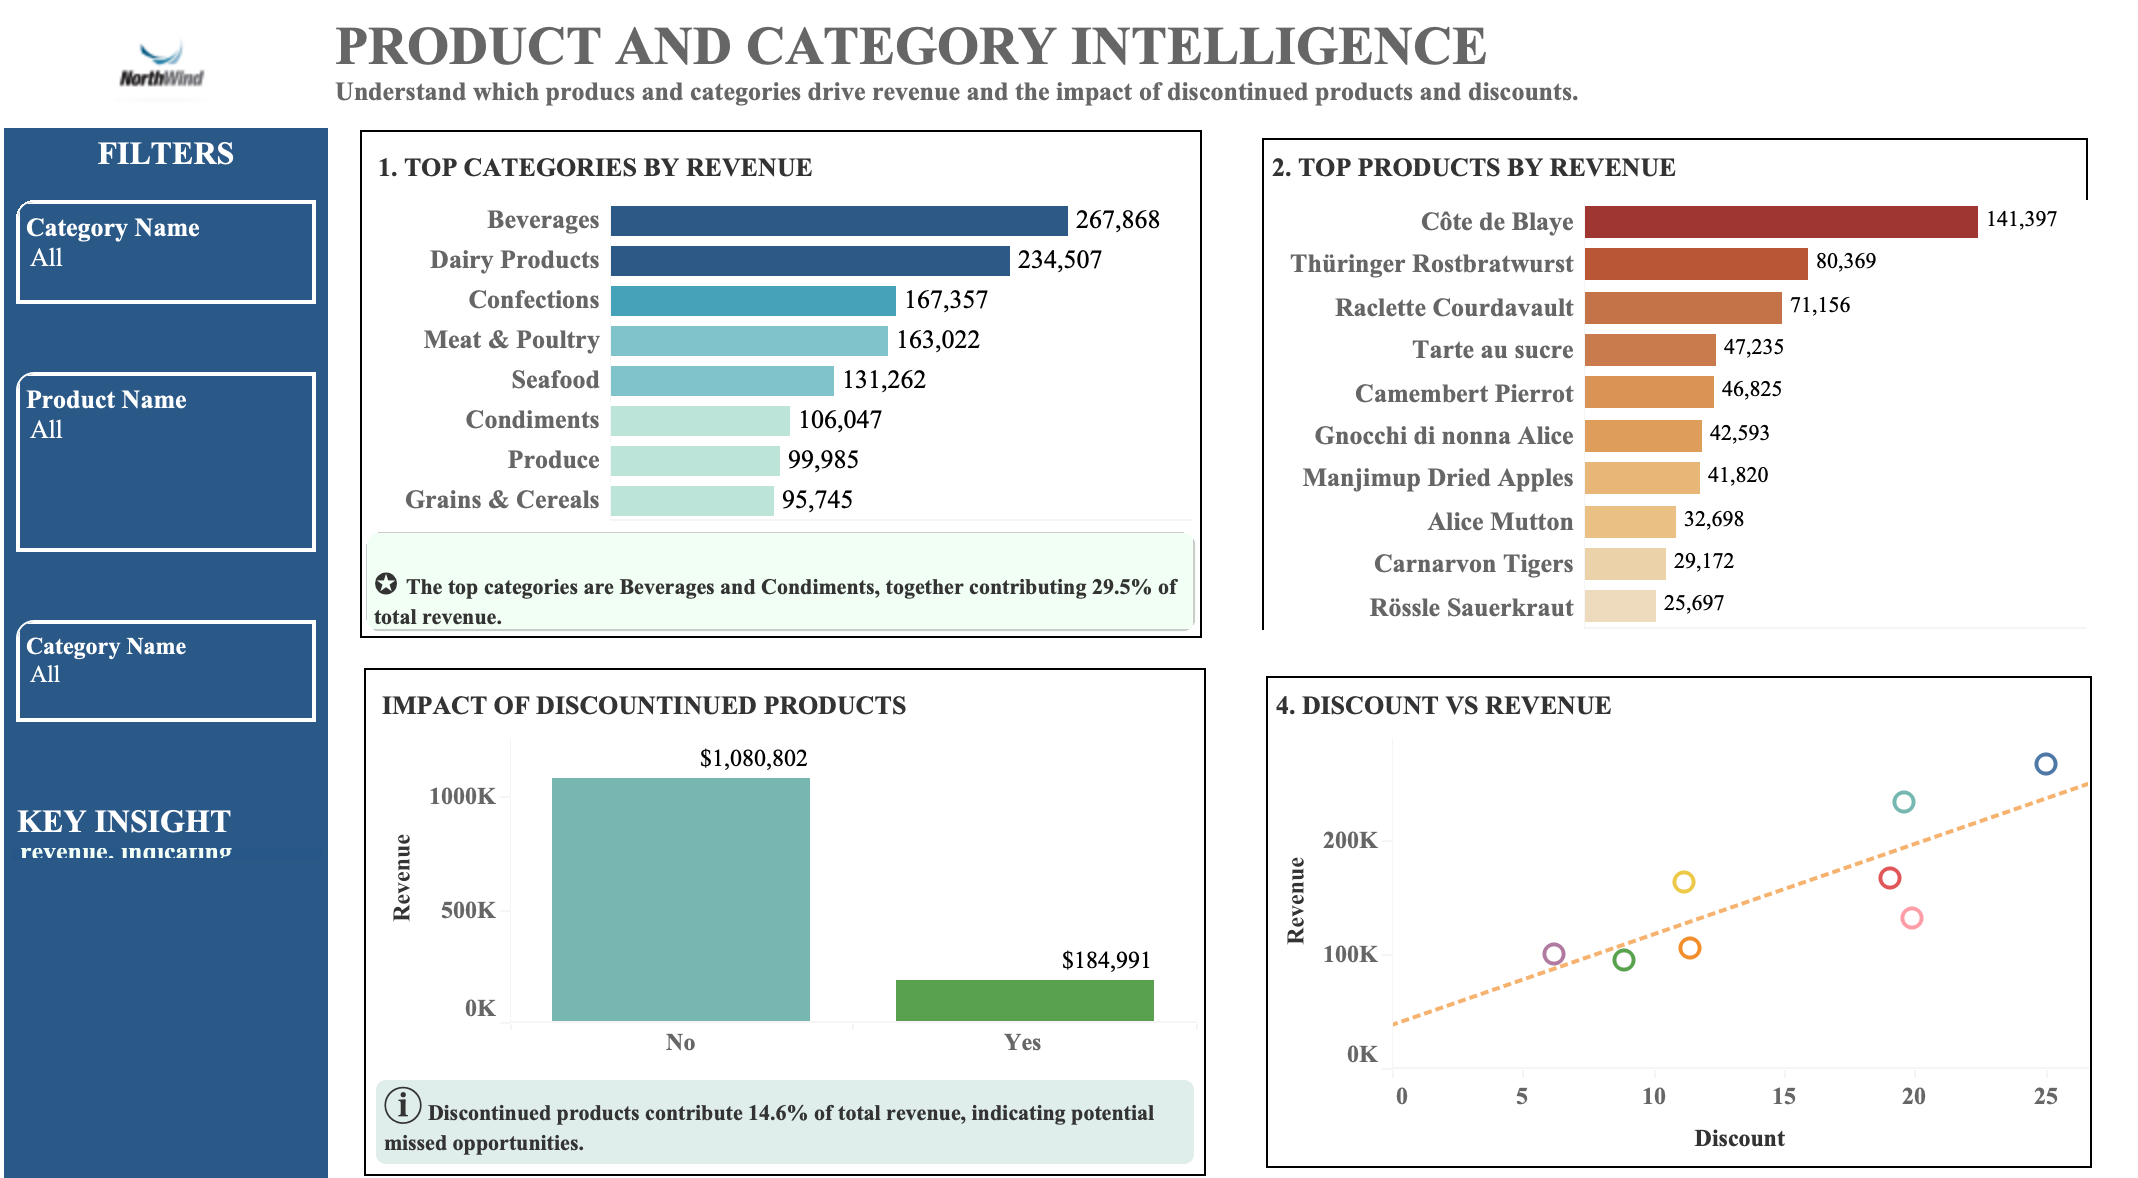

Layout of this report page (visuals, bound fields, positions):
{"tool":"tableau","page":{"name":"Product and Category","canvas":[1000,1000],"units":"permille","ordinal":1},"visuals":[{"type":"text","box":[154.3,12.7,784.2,80.5]},{"type":"image","param":"/Users/lanreajayi/Downloads/northwind.png","box":[9.2,18.4,134.1,80.5]},{"type":"text","box":[1.9,108.8,151.5,43.7]},{"type":"worksheet","title":"Top Products","mark":"Automatic","rows":["productName"],"cols":["Calculation_0364071424393216"],"box":[586.5,110.9,393.8,430.3]},{"type":"worksheet","title":"Top Categories","mark":"Automatic","rows":["categoryName"],"cols":["Calculation_0364071424393216"],"box":[169.3,111.9,391.9,332.8]},{"type":"filter","title":"Top Categories","param":"[federated.0mvdz6j06fmfxy10p40rm1pjm4gl].[none:categoryName:nk]","box":[1.9,152.5,151.5,137.8]},{"type":"filter","title":"Top Products","param":"[federated.0mvdz6j06fmfxy10p40rm1pjm4gl].[none:productName:nk]","box":[1.9,290.3,151.5,208.4]},{"type":"worksheet","title":"Insight 2","mark":"Text","rows":["categoryName"],"box":[169.3,444.6,391.9,94.7]},{"type":"filter","title":"Discount vs Revenue","param":"[federated.0mvdz6j06fmfxy10p40rm1pjm4gl].[none:categoryName:nk]","box":[1.9,498.7,151.5,142.8]},{"type":"worksheet","title":"Discount vs Revenue","mark":"Automatic","rows":["Calculation_0364071424393216"],"cols":["discount"],"box":[588.4,567.8,393.8,430.8]},{"type":"worksheet","title":"Discountinued Products","mark":"Bar","rows":["Calculation_0364071424393216"],"cols":["Calculation_0041846006296576"],"box":[171.2,569.5,391.9,340]},{"type":"text","box":[1.9,641.5,151.5,72.3]},{"type":"worksheet","title":"Insight 1 (2)","mark":"Text","box":[1.9,713.8,151.5,286.2]},{"type":"worksheet","title":"Insight 1","mark":"Text","box":[171.2,909.5,391.9,87.4]}]}

Visuals, with their boxes on the dashboard's canvas, which has no fixed pixel size, in thousandths of its width and height (x1, y1, x2, y2). These are canvas units, not pixel positions in the 2138x1178 screenshot, which may show the page scaled, cropped or inside an application window:
text: [x1=154, y1=13, x2=938, y2=93]
image: [x1=9, y1=18, x2=143, y2=99]
text: [x1=2, y1=109, x2=153, y2=152]
"Top Products" worksheet: [x1=586, y1=111, x2=980, y2=541]
"Top Categories" worksheet: [x1=169, y1=112, x2=561, y2=445]
"Top Categories" filter: [x1=2, y1=152, x2=153, y2=290]
"Top Products" filter: [x1=2, y1=290, x2=153, y2=499]
"Insight 2" worksheet (Text marks): [x1=169, y1=445, x2=561, y2=539]
"Discount vs Revenue" filter: [x1=2, y1=499, x2=153, y2=642]
"Discount vs Revenue" worksheet: [x1=588, y1=568, x2=982, y2=999]
"Discountinued Products" worksheet (Bar marks): [x1=171, y1=570, x2=563, y2=910]
text: [x1=2, y1=642, x2=153, y2=714]
"Insight 1 (2)" worksheet (Text marks): [x1=2, y1=714, x2=153, y2=1000]
"Insight 1" worksheet (Text marks): [x1=171, y1=910, x2=563, y2=997]
